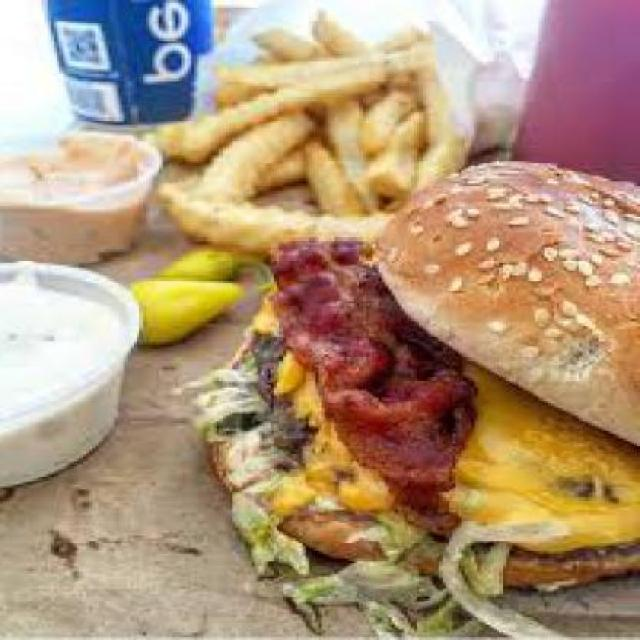french fries: (162, 4, 504, 256)
